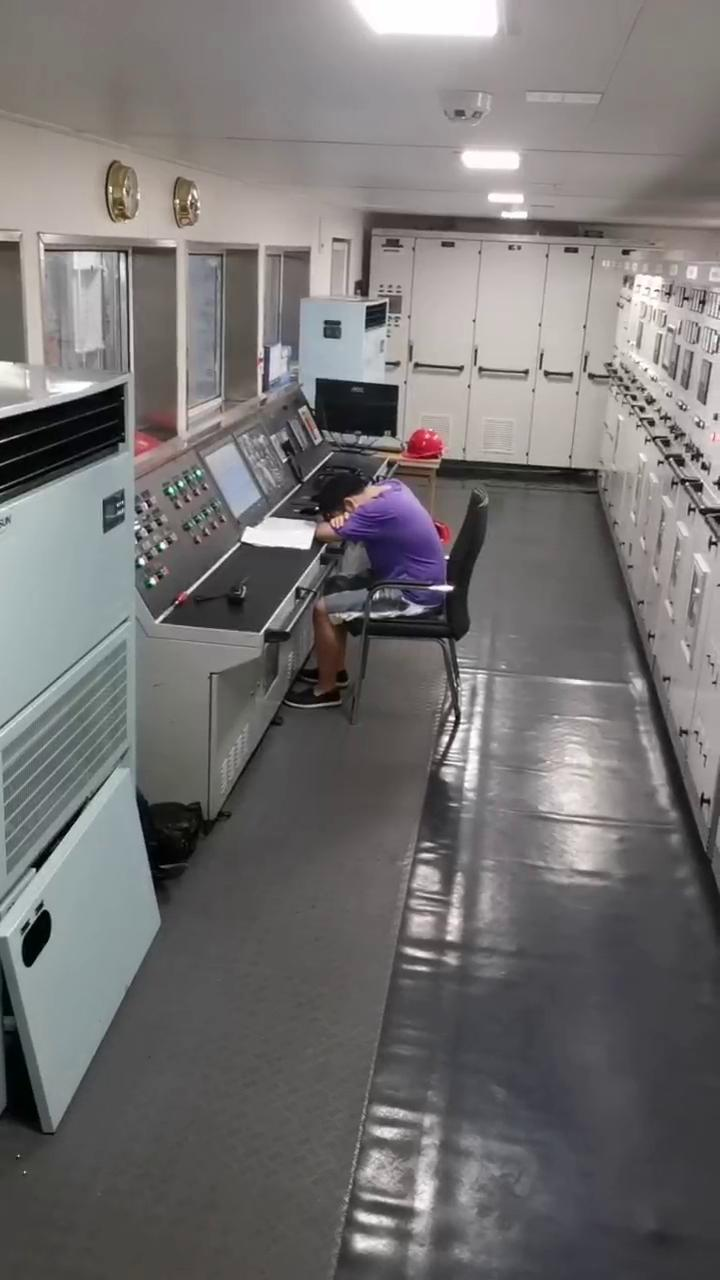sleep: (305, 474, 449, 629)
